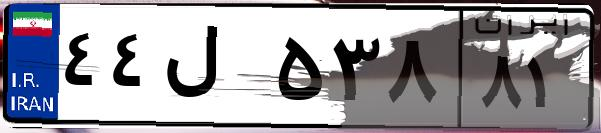1: (525, 38, 570, 115)
3: (330, 28, 385, 110)
4: (57, 26, 110, 100), (110, 28, 158, 98)
5: (270, 28, 330, 110)
8: (385, 28, 445, 110), (475, 38, 525, 113)
ل: (158, 20, 270, 120)
